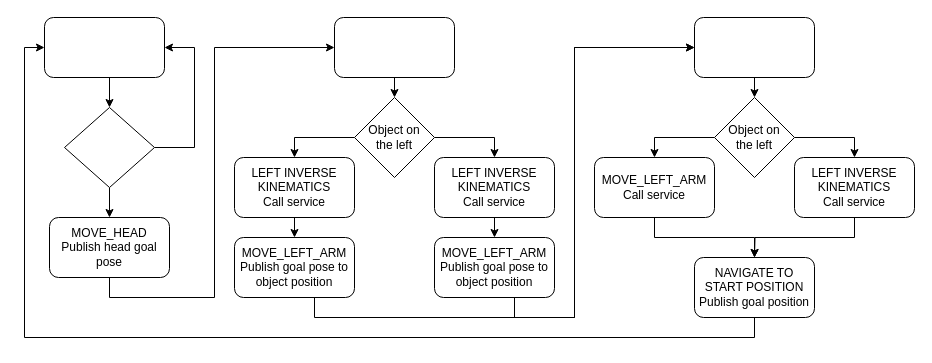
Image size: 932x363. Some labels were removed from this diagram. The shapes that lost their labels are listed below. From the top down, each one's centre as x and y in pixels, then its label:
[104,47]: INIT
[394,47]: FIND_OBJECT Call service to find the requested object
[754,47]: NAVIGATE TO GOAL LOCATION Publish goal position
[109,147]: New command
